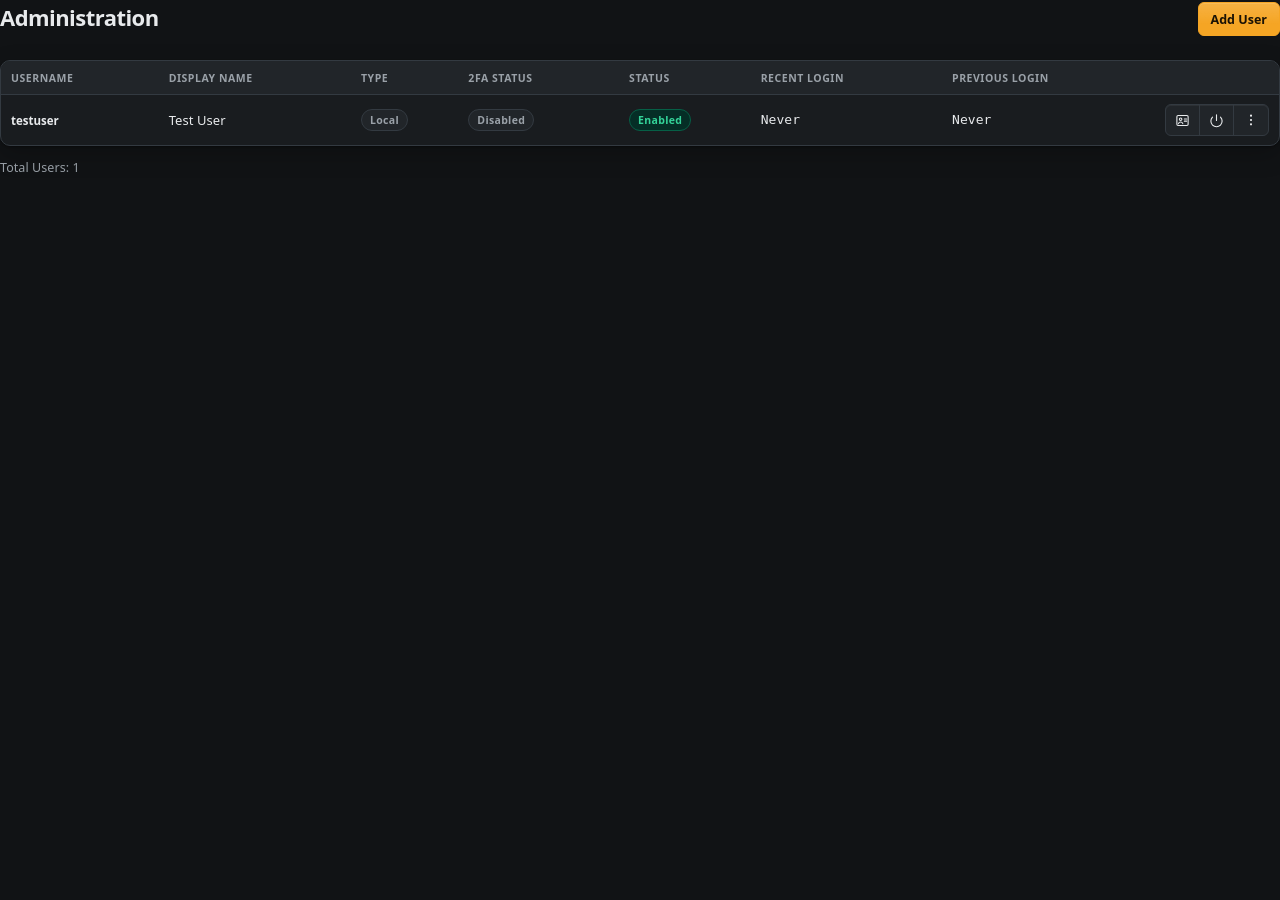
Test: Users: the details modal › the sessions of the user come out inside the modal with their own total
Click the button named "View Details" at [1182, 120], box [1166,105,1199,135]
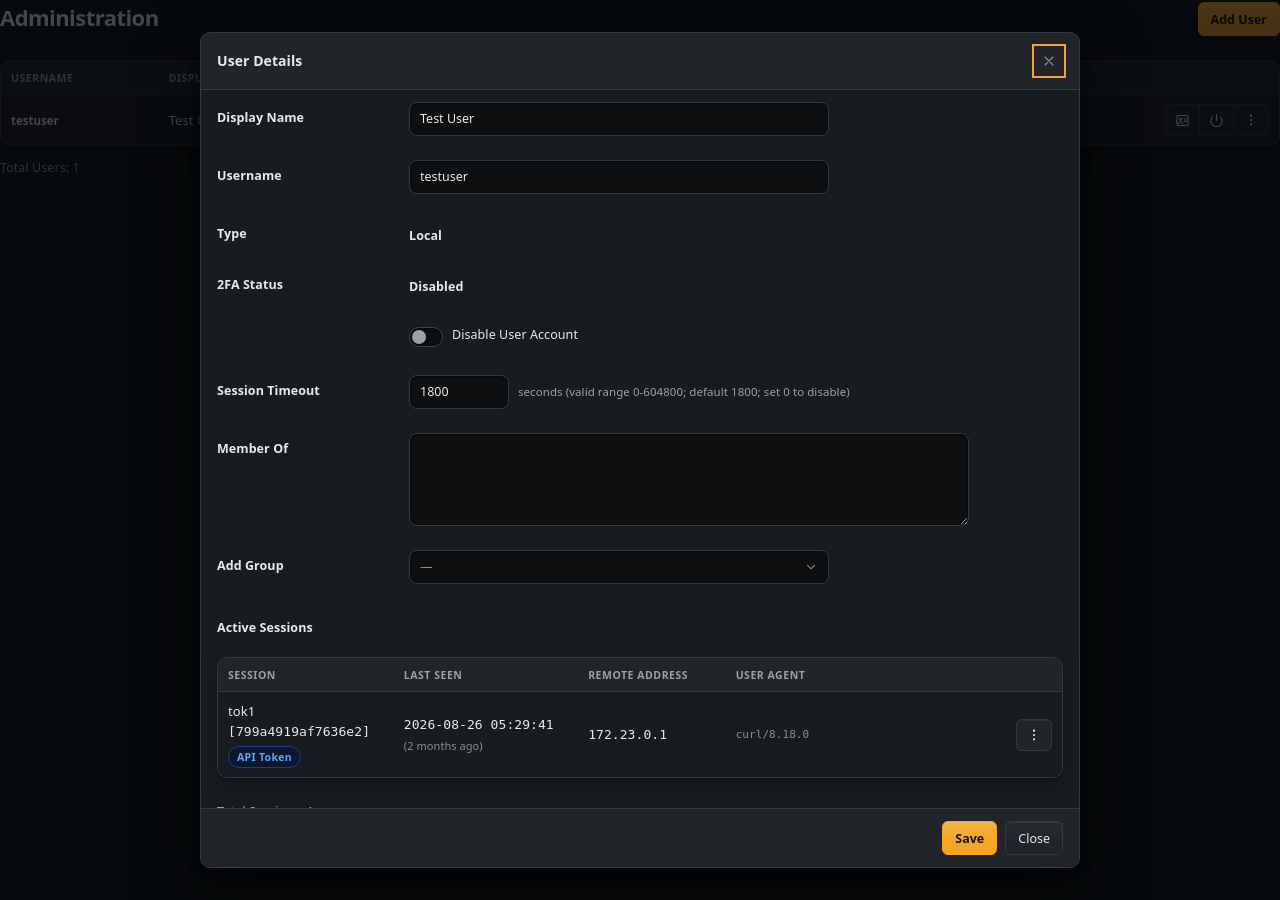
Expected: the text "[799a4919af7636e2]" is shown, [228,722,384,742]
